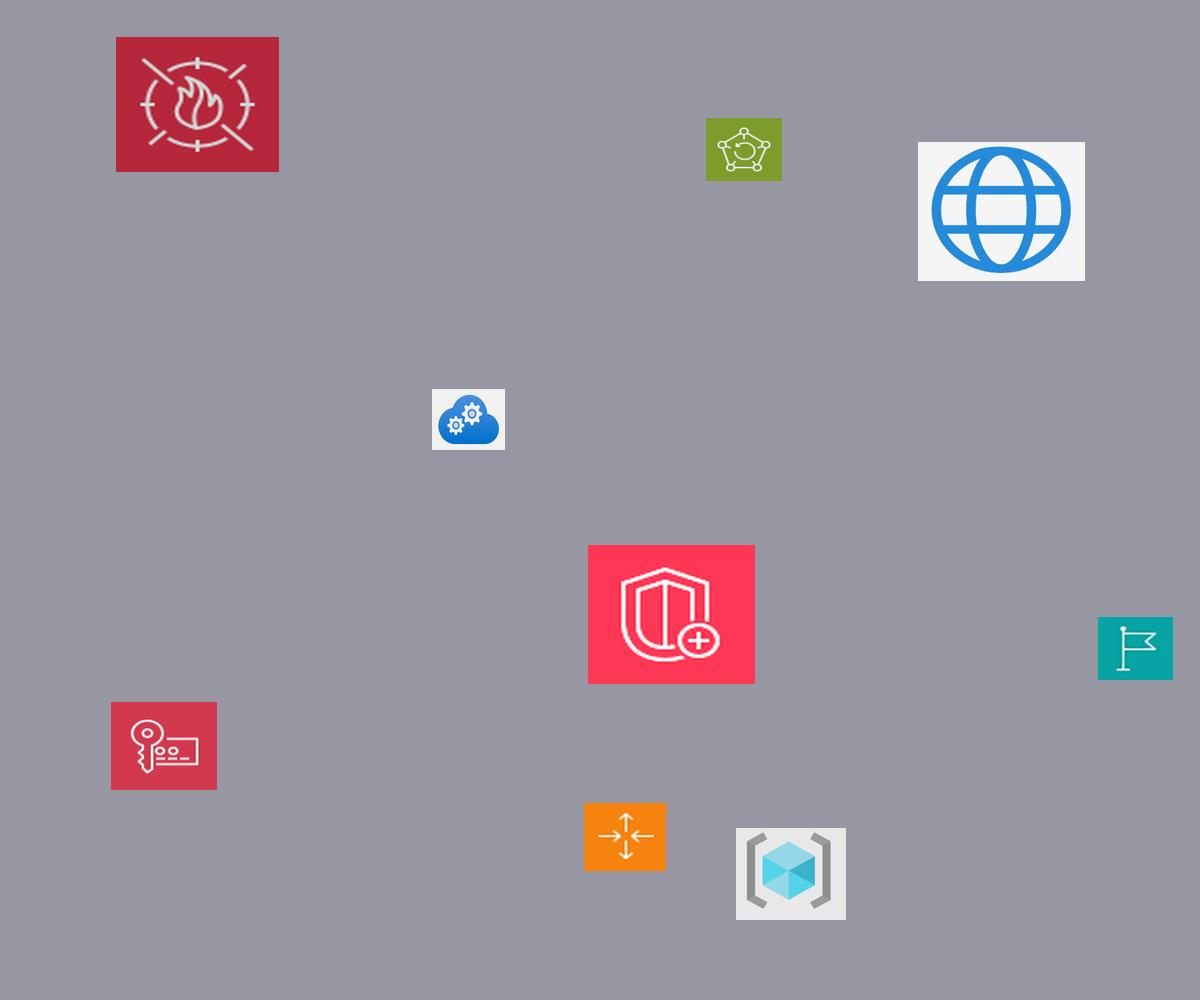AWS-Backup: (706, 118, 782, 181)
AWS-Key-Management-Service: (111, 702, 217, 790)
AWS-Region: (1098, 617, 1173, 680)
AWS-Scaling-group: (584, 803, 666, 871)
AWS-Shield: (588, 545, 755, 684)
AWS-WAF: (116, 37, 279, 172)
Azure_cloud_services: (432, 389, 505, 450)
Azure_http: (918, 142, 1085, 281)
Azure_resource_group: (736, 828, 846, 920)
